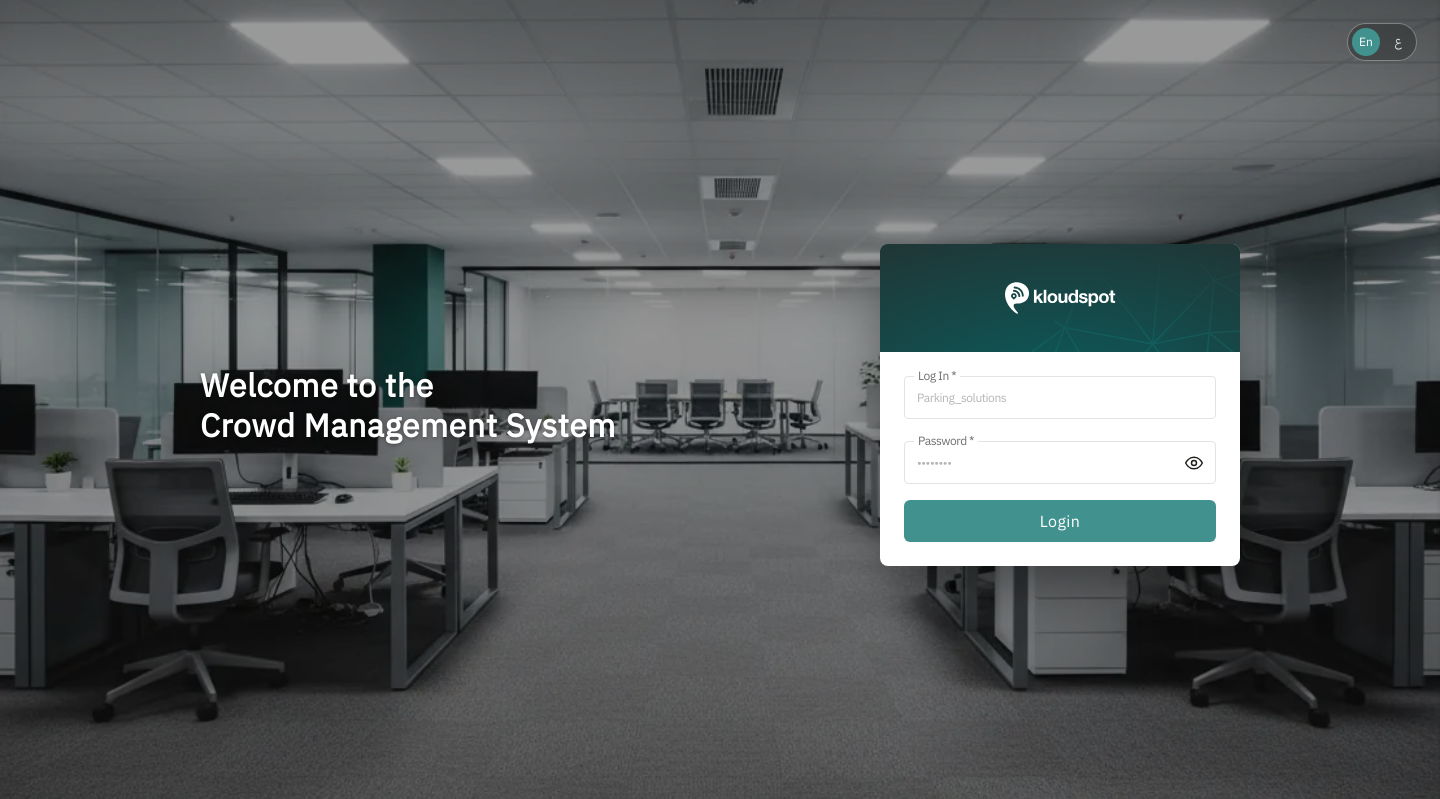
Test case: app shell › logs in and lands on the Overview with the first site selected
Type "test@test.com" into the field labelled "Log In *" at (1060, 398), box [904,376,1216,419]
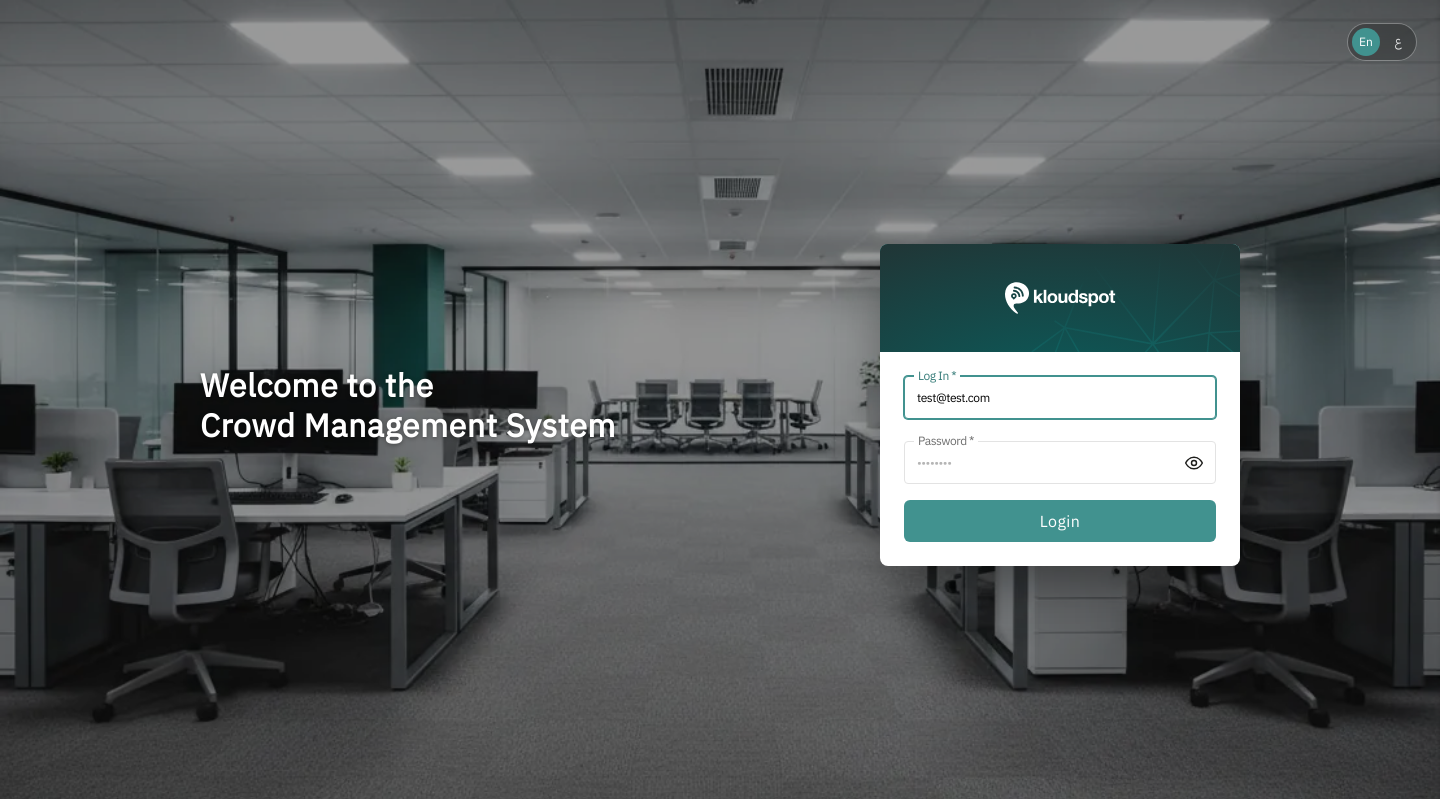
Type "1234567890" into the password field labelled "Password *" at (1060, 462), box [904,441,1216,484]
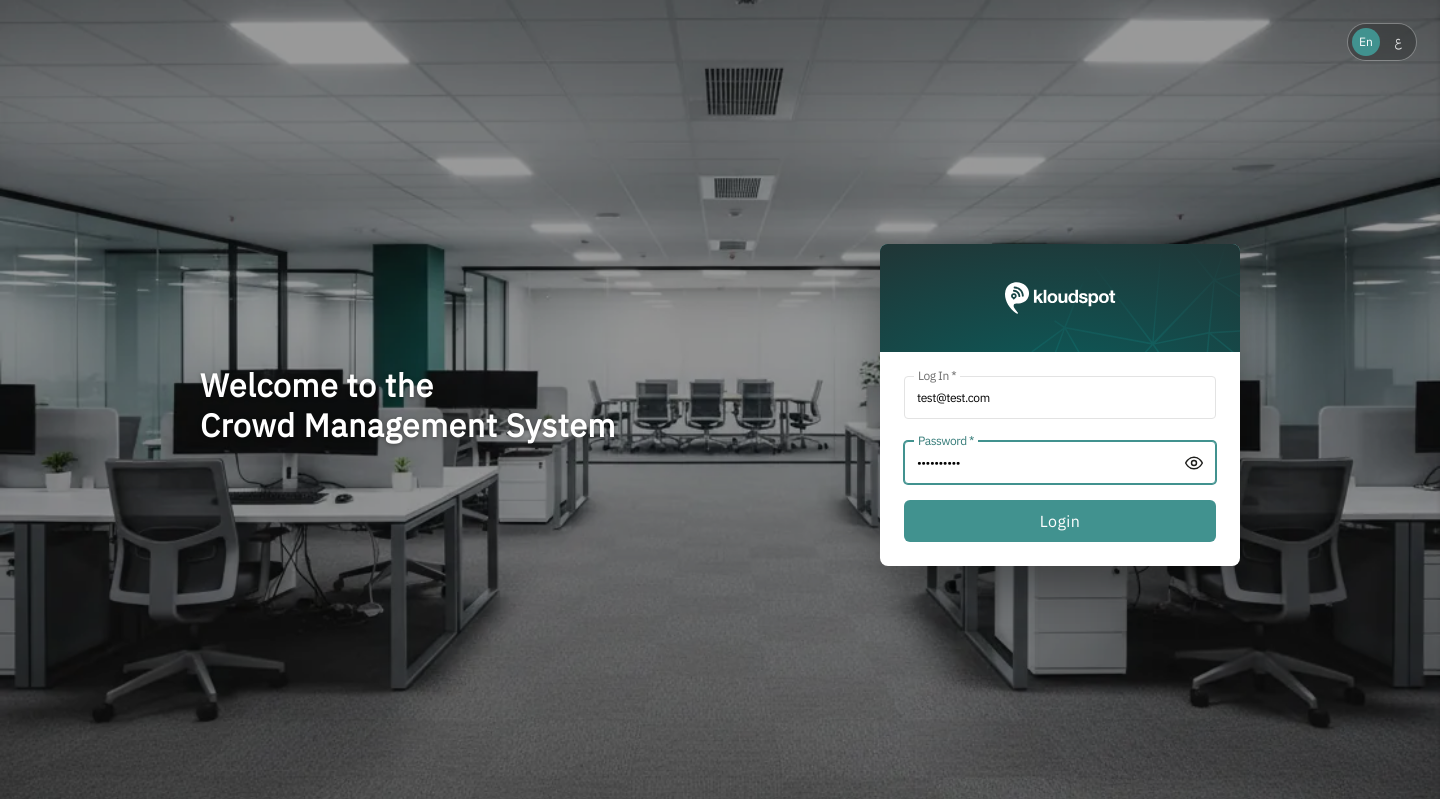
Click the button "Login" at (1060, 521), box [904,500,1216,542]
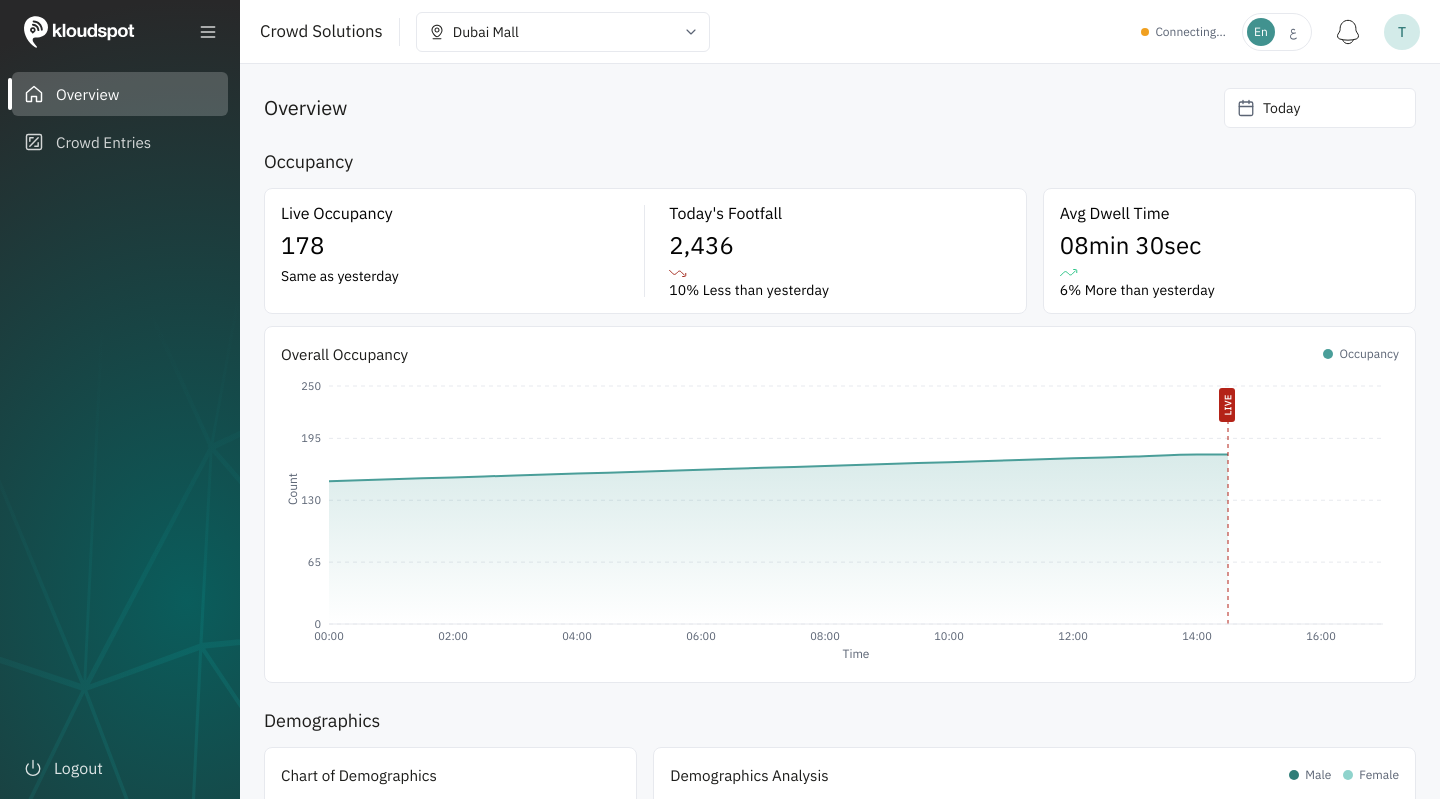
Now the heading "Overview" is shown, box [264,94,348,122]
Now the dropdown showing "Dubai Mall" is shown, box [453,22,677,42]
